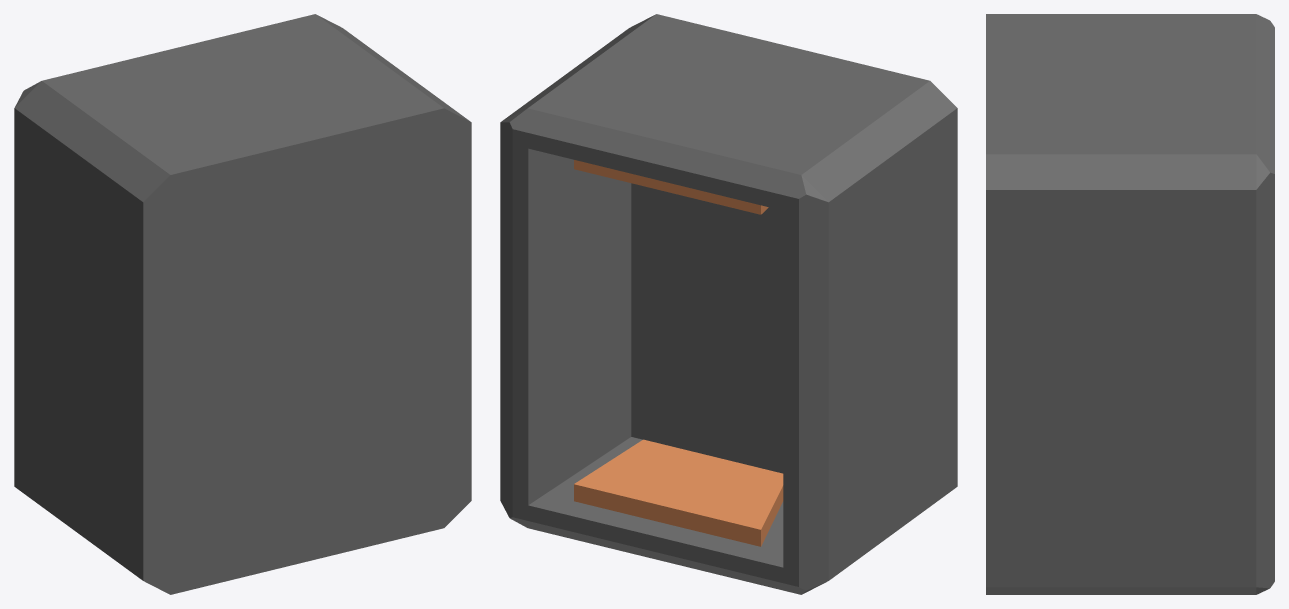
File: singlebatteryholder.fbx
The picture shows the model from 3 angles, left to right: view 1: azimuth 30°, elevation 25°; view 2: azimuth 150°, elevation 25°; view 3: azimuth 270°, elevation 25°; orthographic projection. The views are drawn at different scales.
Parts seen in each view (by area): view 1: Cube.006; view 2: Cube.006; view 3: Cube.006.
Boxes of the visible parts, bbox=[...] form: Cube.006: bbox=[14, 14, 471, 594]; Cube.006: bbox=[500, 14, 957, 594]; Cube.006: bbox=[986, 14, 1274, 594].
Bounding box in the file's own units: 327 × 400 × 238.
